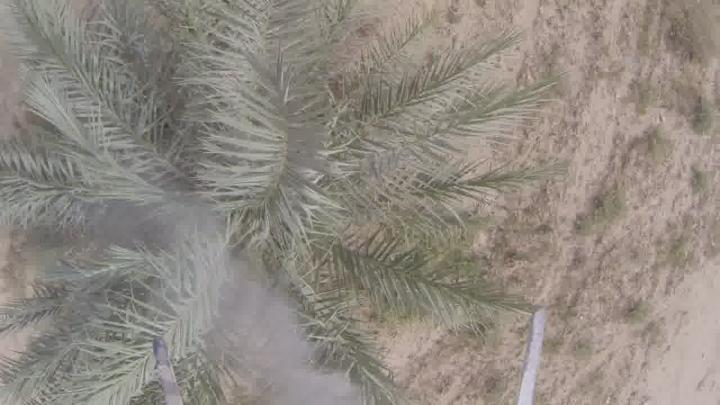Date-Palm-Crown: (50, 47, 395, 392)
